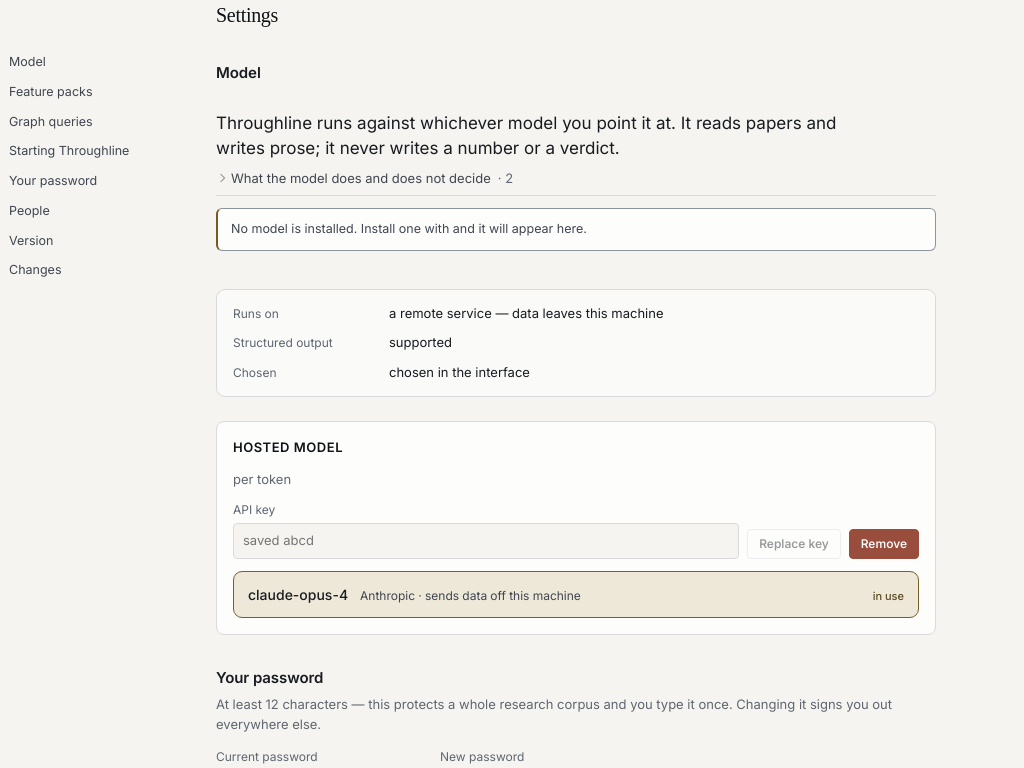
it: removing the saved key › does not delete anything on the first click
Click the button "Remove" at (884, 544), box [849,529,919,559]
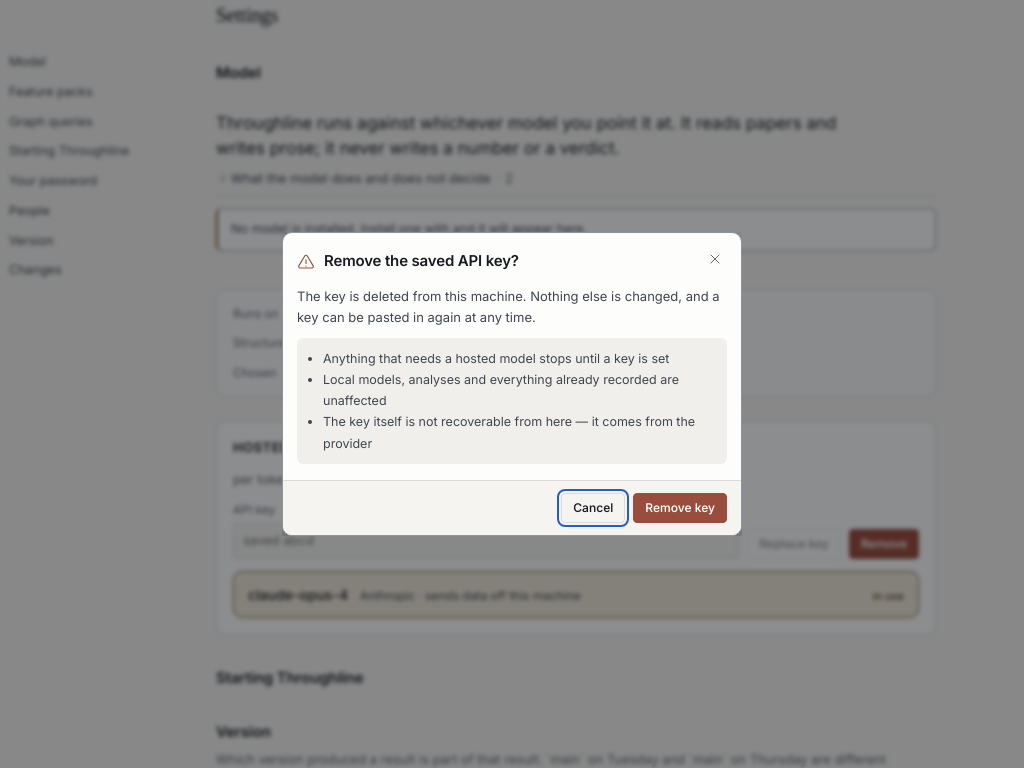
Expected: the heading "Remove the saved API key?" is shown, [324,251,519,270]
